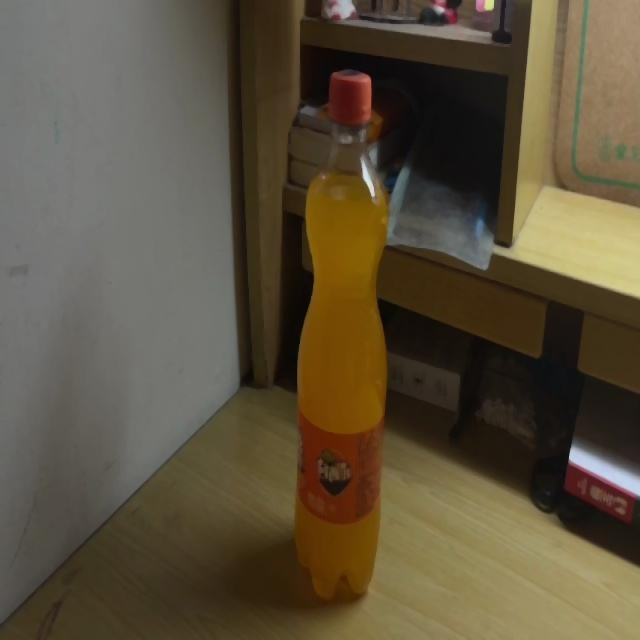Fanta: (298, 67, 390, 602)
